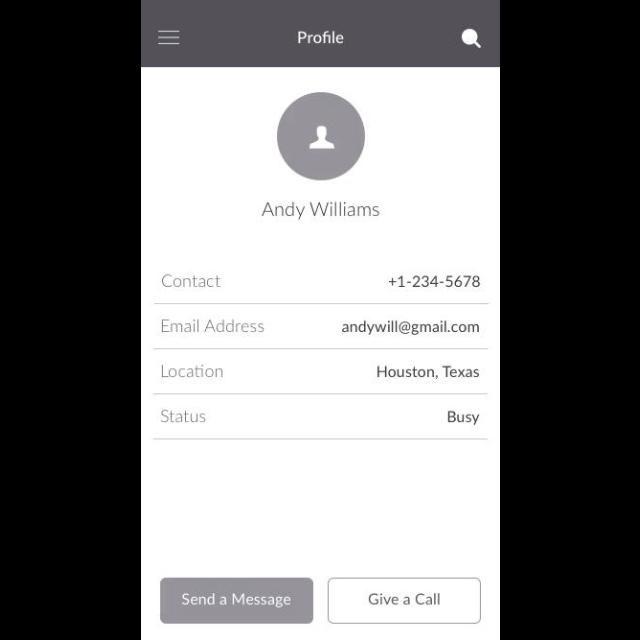icon: (276, 92, 366, 182), (461, 28, 483, 50), (156, 30, 180, 46)
text: (260, 202, 380, 222), (342, 321, 480, 337), (376, 364, 479, 380), (162, 318, 264, 334), (389, 276, 481, 288), (160, 275, 222, 289), (161, 364, 223, 378), (296, 31, 344, 45), (160, 409, 206, 423), (447, 410, 479, 426)
textbutton: (159, 576, 313, 624), (327, 578, 481, 624)
